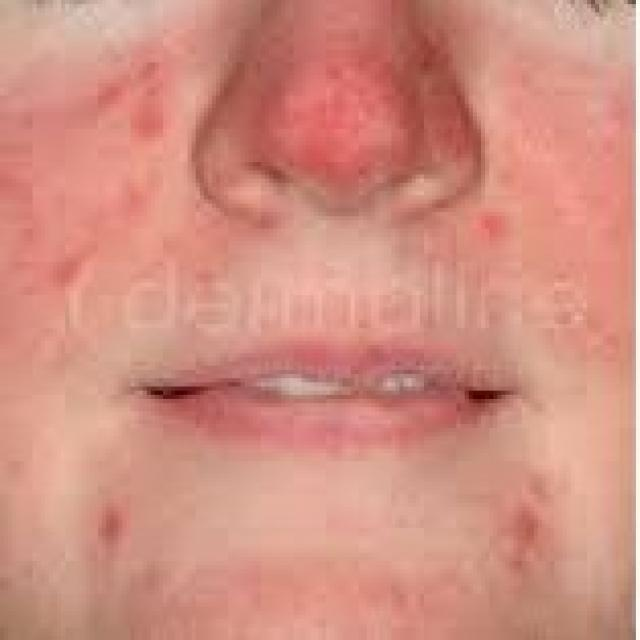Rosacea: (476, 28, 640, 355), (0, 37, 162, 352), (212, 26, 482, 211)
